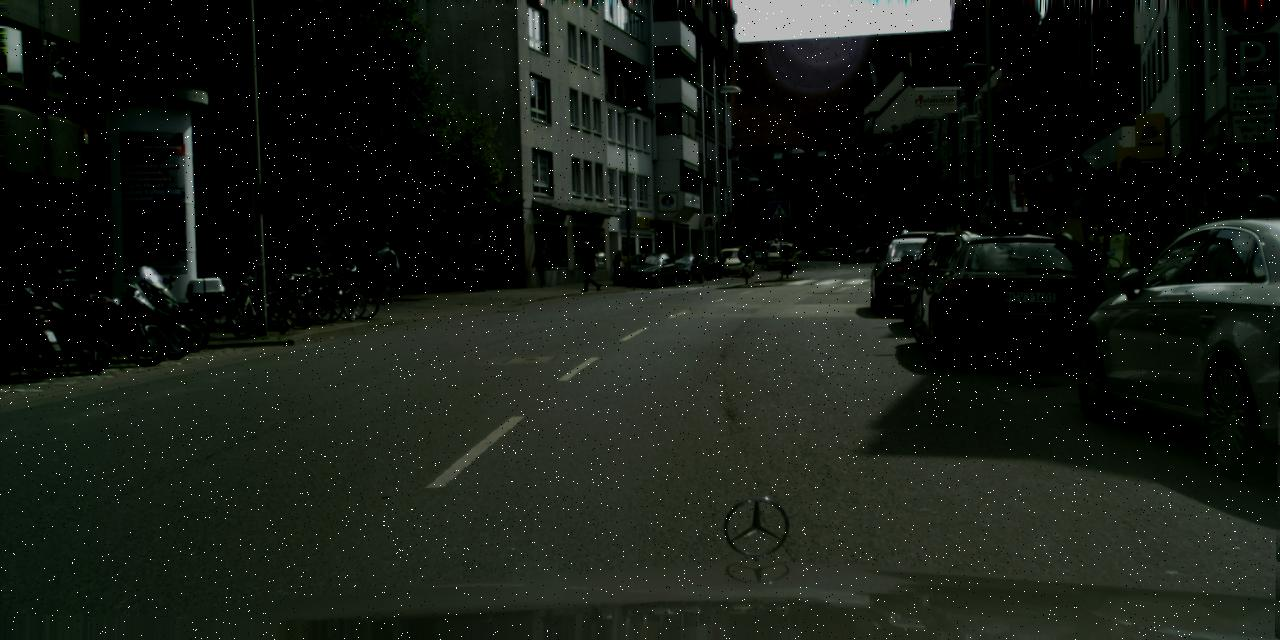ped: (228, 245, 253, 306), (374, 241, 398, 303), (579, 240, 599, 290), (384, 246, 404, 296), (1082, 226, 1102, 276), (531, 243, 549, 286), (612, 245, 627, 284), (830, 247, 836, 260)
